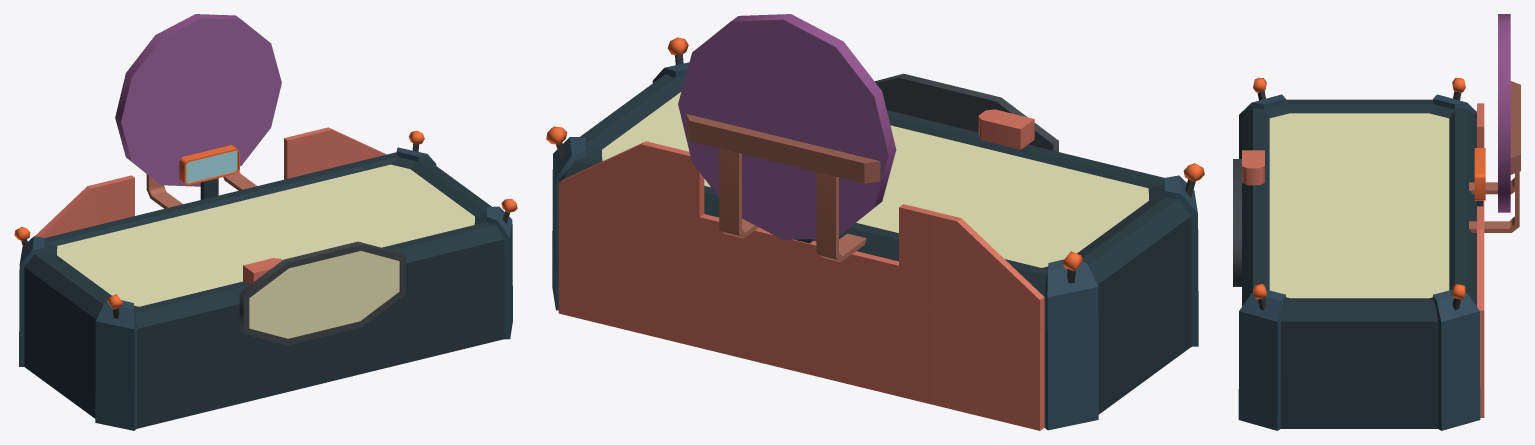
File: SM_GameArea_RecreationalMachines_13.fbx
3 renders of one model, left to right at view 1: azimuth 30°, elevation 25°; view 2: azimuth 150°, elevation 25°; view 3: azimuth 270°, elevation 25°, orthographic. The views are drawn at different scales.
Parts seen in each view (by area): view 1: SM_GameArea_RecreationalMachines_13; view 2: SM_GameArea_RecreationalMachines_13; view 3: SM_GameArea_RecreationalMachines_13.
Part boxes in pixels (left/top/right/bottom): SM_GameArea_RecreationalMachines_13: left=14, top=14, right=517, bottom=430; SM_GameArea_RecreationalMachines_13: left=546, top=14, right=1204, bottom=430; SM_GameArea_RecreationalMachines_13: left=1233, top=14, right=1520, bottom=430.
Size of the model in its own units: 11.45 by 7.29 by 6.37.
3 materials, 1 textured.
